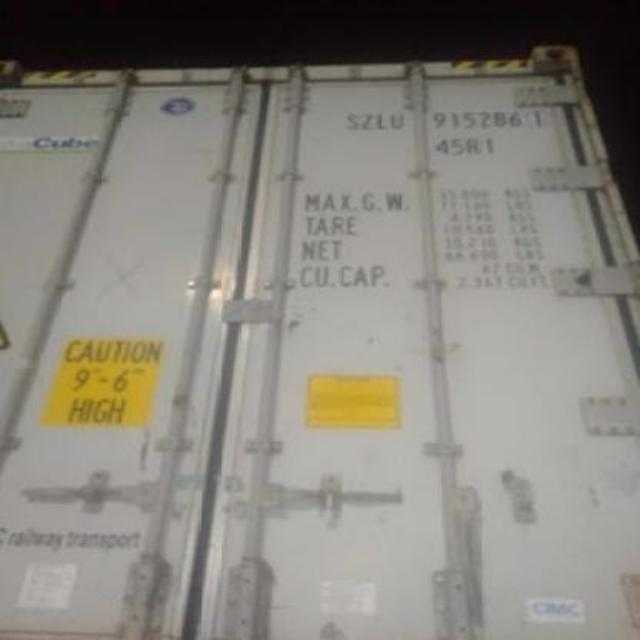1: (528, 106, 546, 132), (446, 106, 462, 132)
2: (476, 105, 492, 132)
5: (460, 105, 476, 132)
6: (508, 106, 522, 132)
8: (492, 101, 506, 133)
9: (430, 106, 446, 134)
L: (374, 106, 388, 134)
S: (344, 104, 358, 132)
U: (390, 105, 408, 134)
Z: (358, 106, 374, 134)
